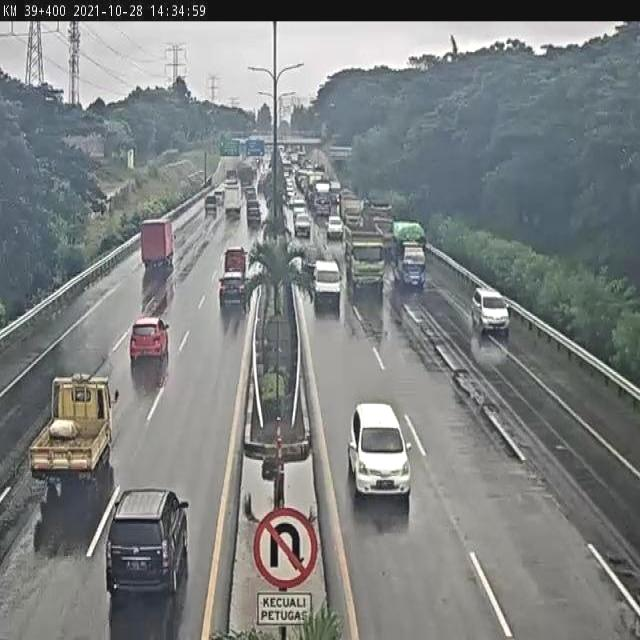Car: (100, 481, 200, 592), (343, 388, 413, 518), (464, 286, 518, 344), (126, 308, 174, 365), (215, 271, 253, 311), (292, 208, 312, 246)
Truck: (13, 364, 127, 486), (389, 211, 444, 295), (344, 216, 392, 300), (132, 214, 180, 267), (222, 175, 246, 219)
Van: (310, 256, 344, 307)
